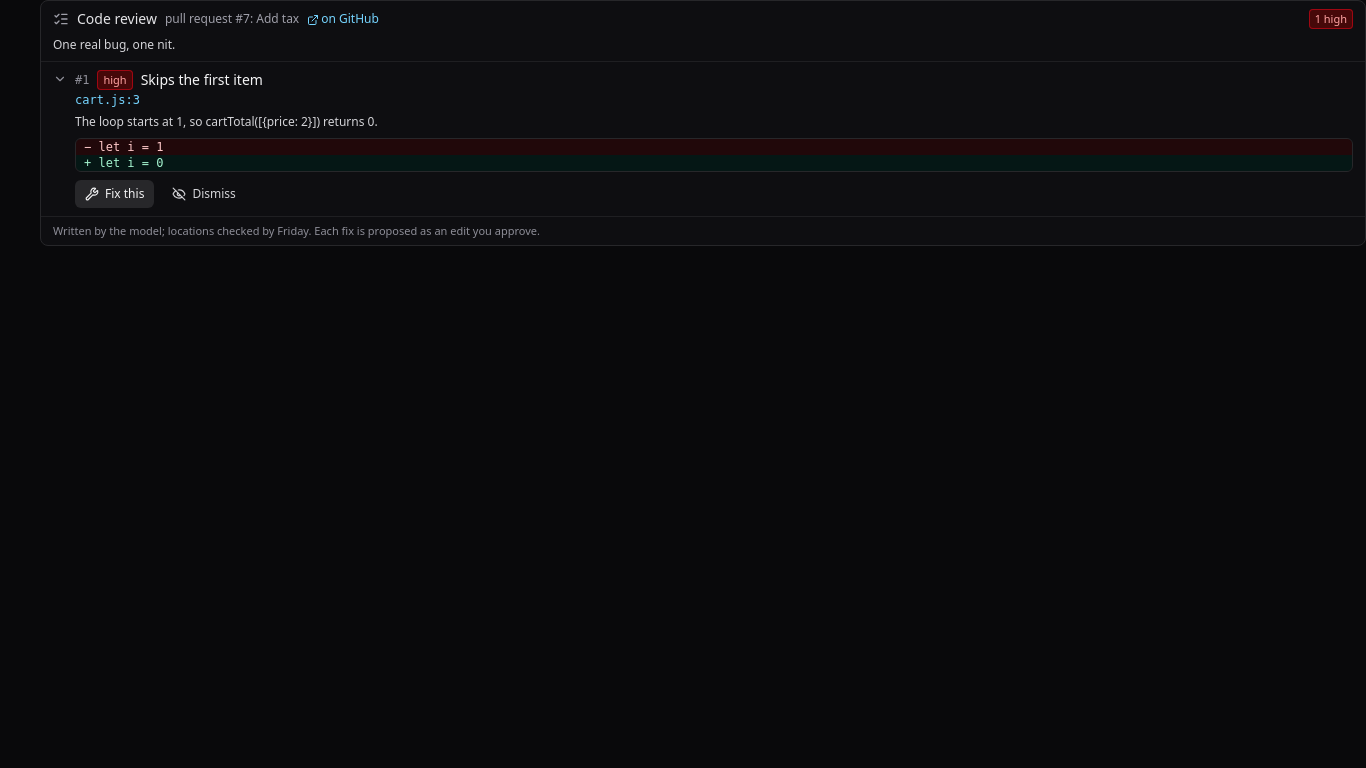
Test case: review card › opens the file at the finding’s line
Click the button "cart.js:3" at (108, 100), box [75, 92, 140, 108]
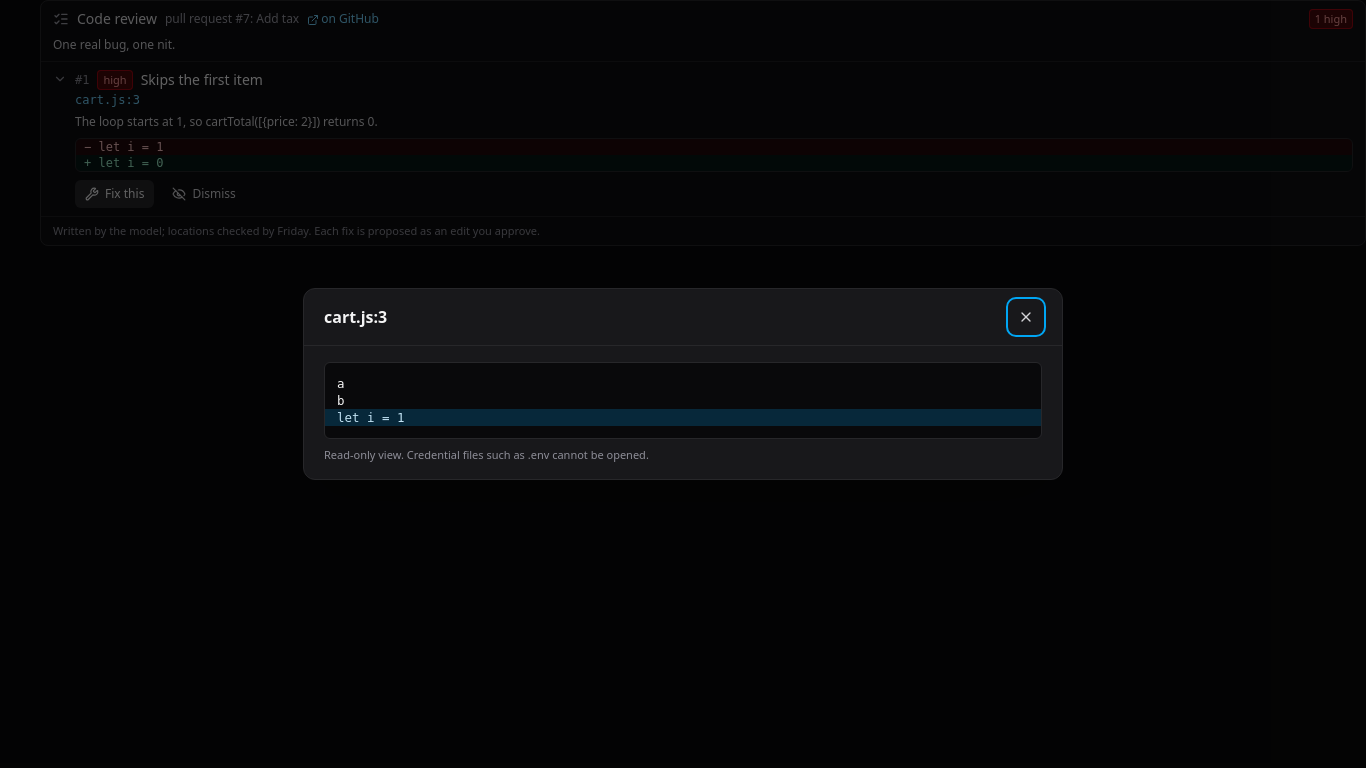
Result: the heading "cart.js:3" is shown at [324, 305, 387, 329]
Result: the element with test id "line-mark" is shown at [325, 409, 1041, 426]
